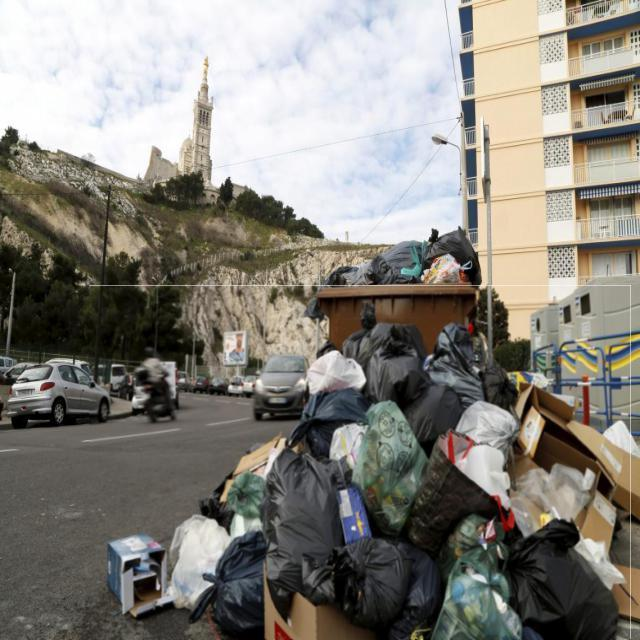Anorganik: (88, 285, 632, 639)
